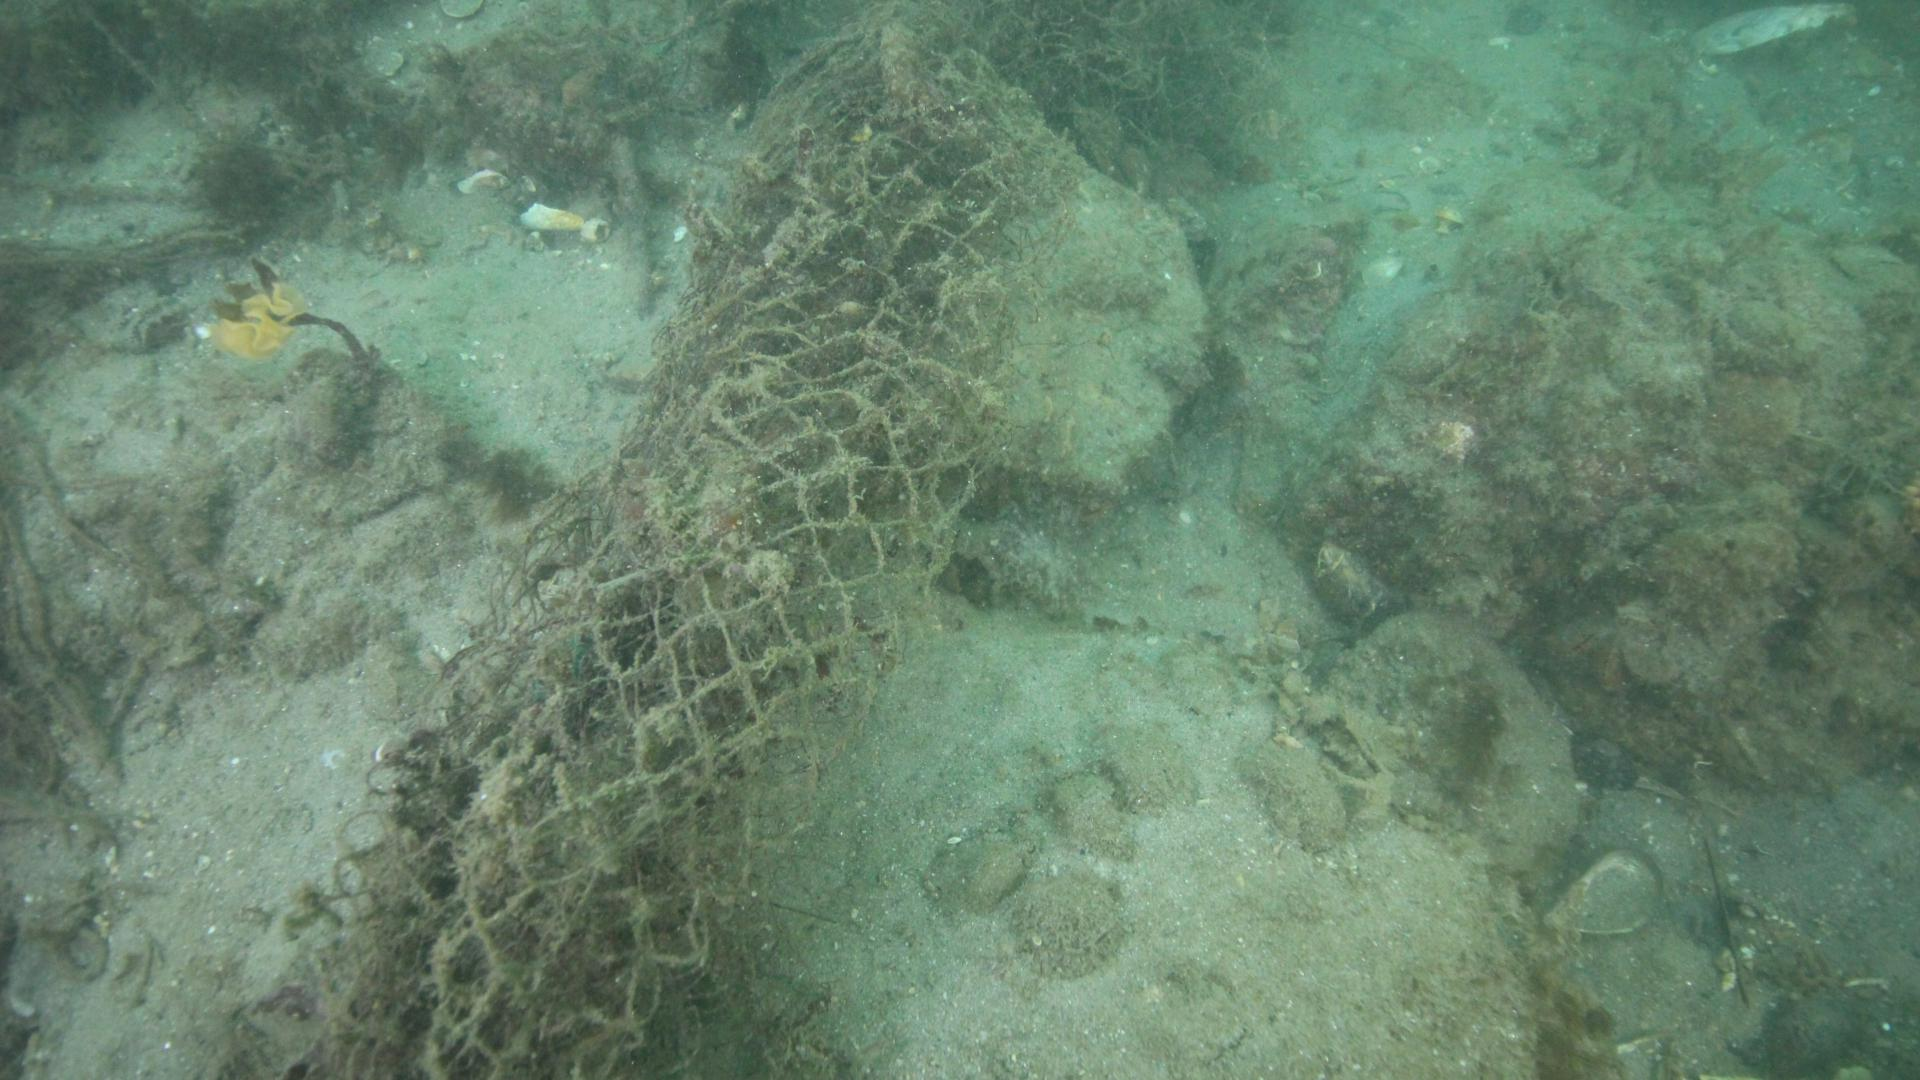fish net: (344, 105, 1010, 1080)
